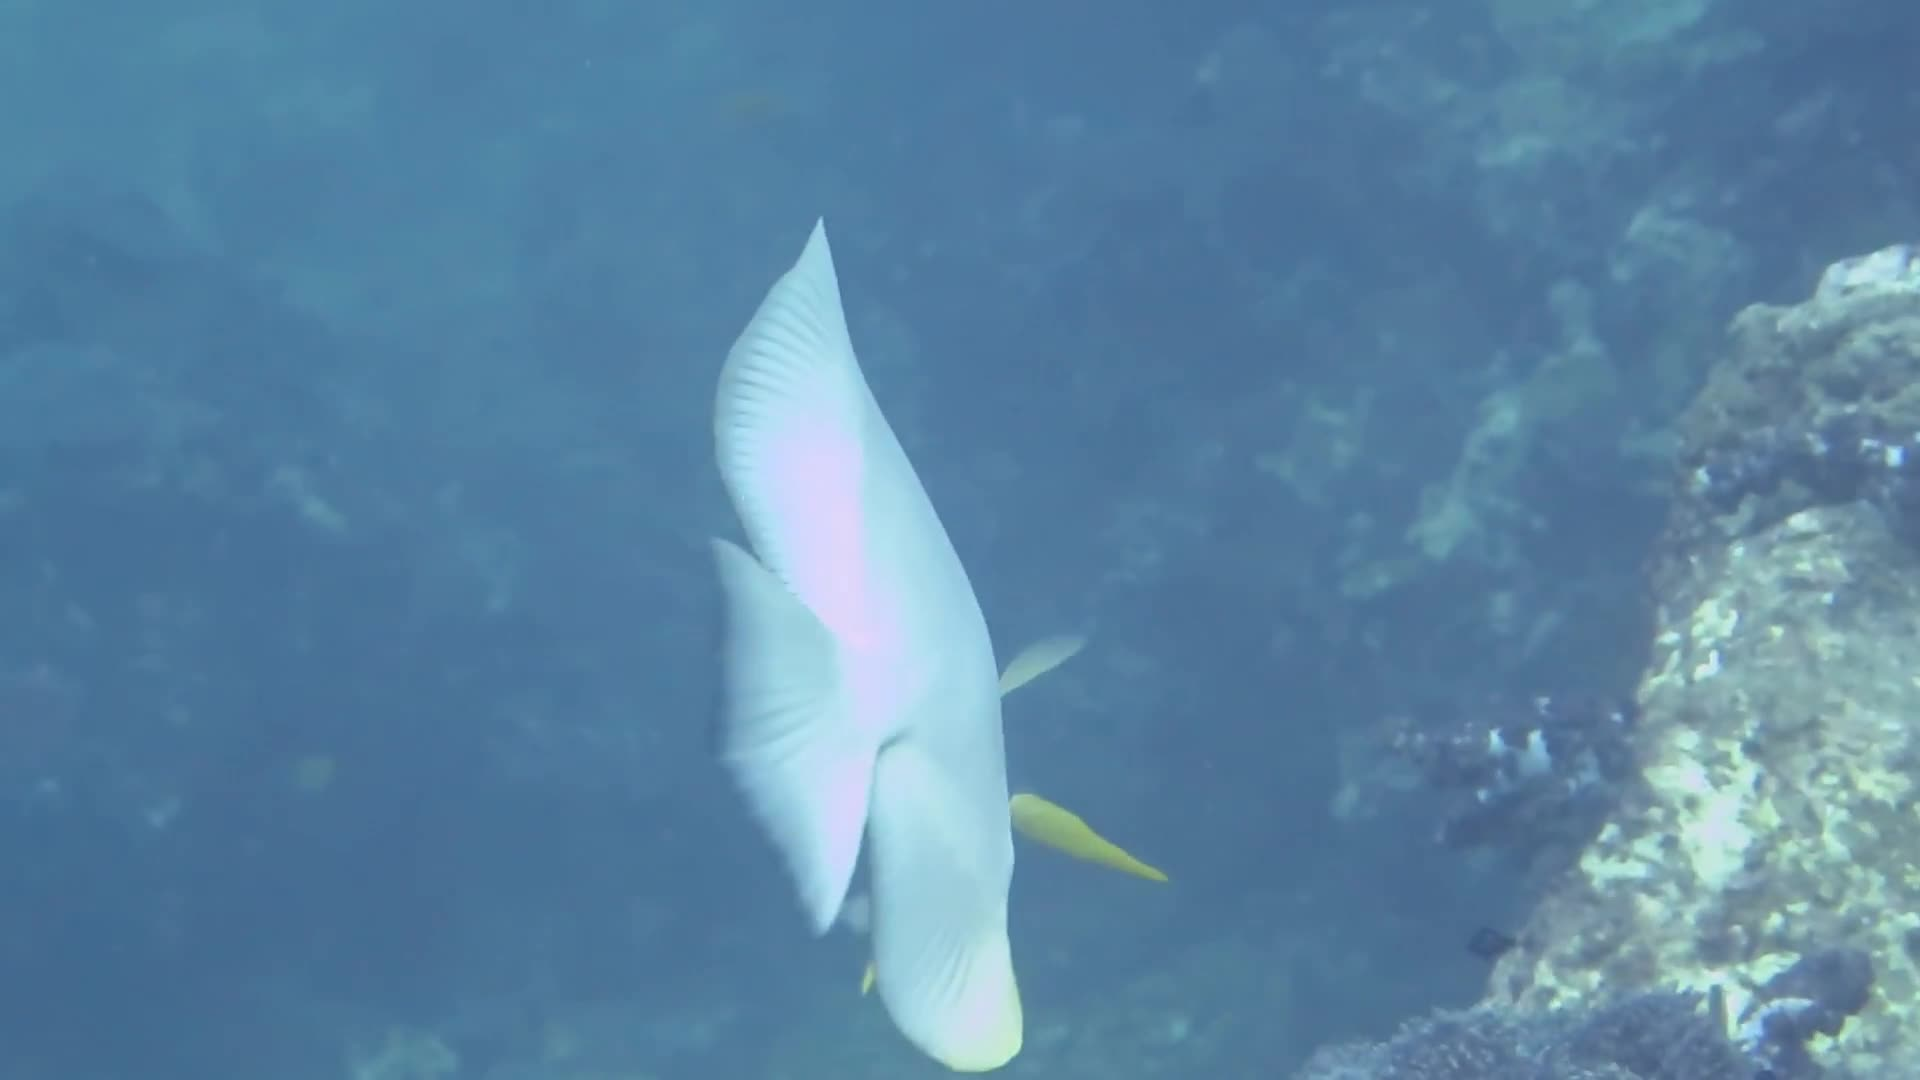Platax teira: (512, 210, 1189, 1080)
